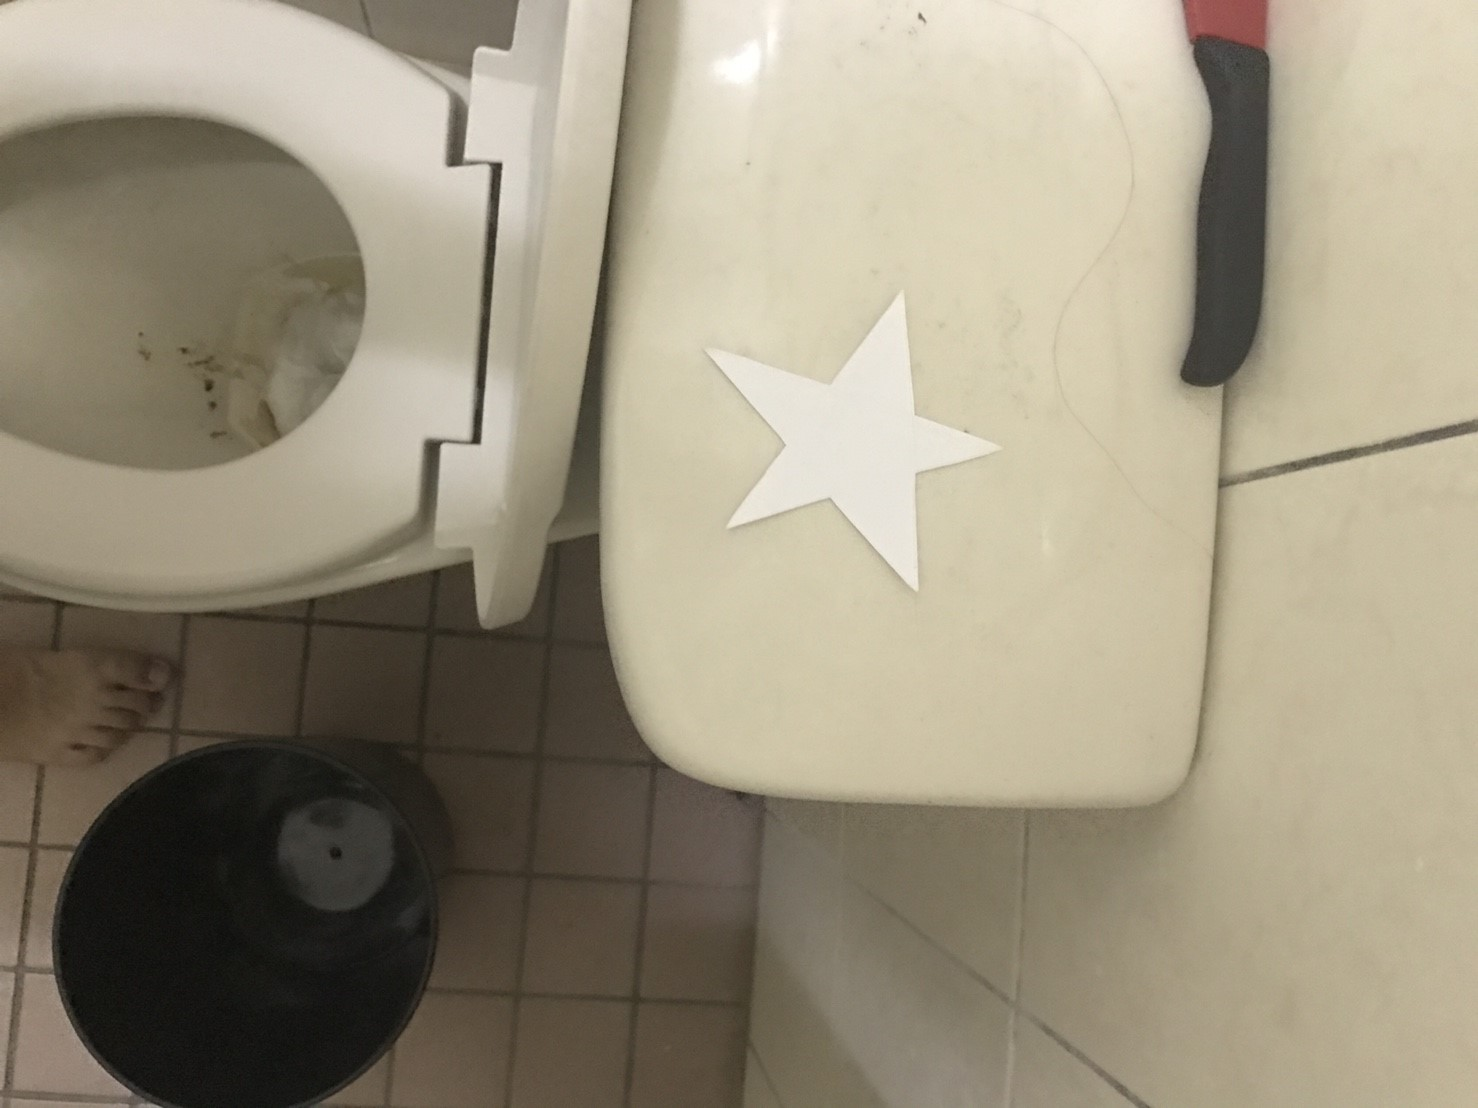star: (695, 278, 1010, 618)
